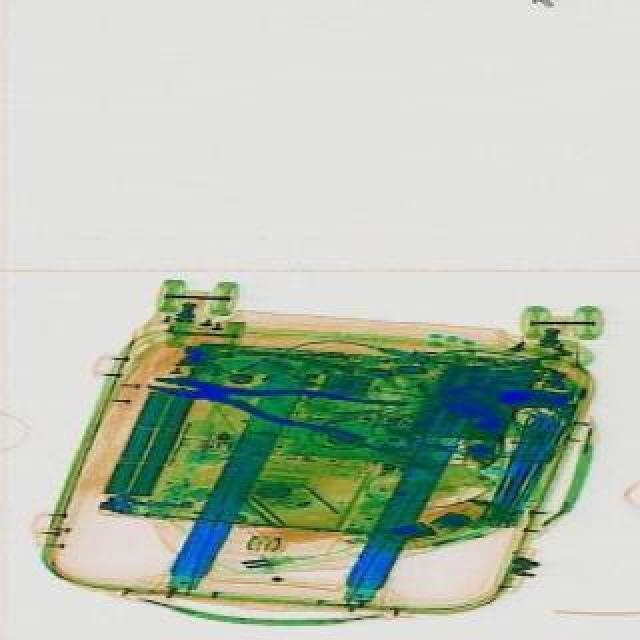wrench: (142, 352, 408, 450)
